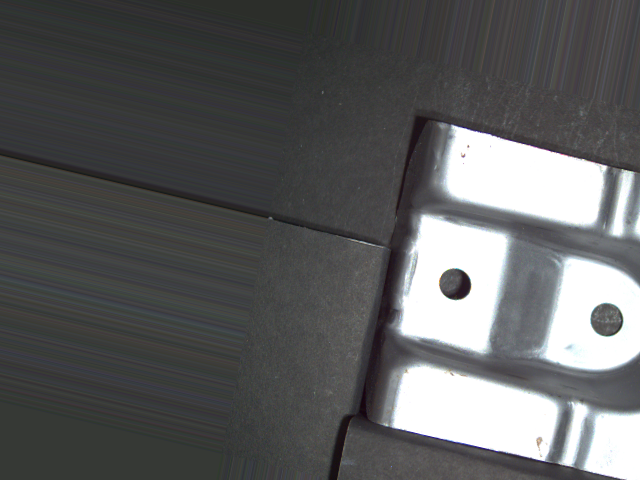defect: (587, 300, 632, 339)
